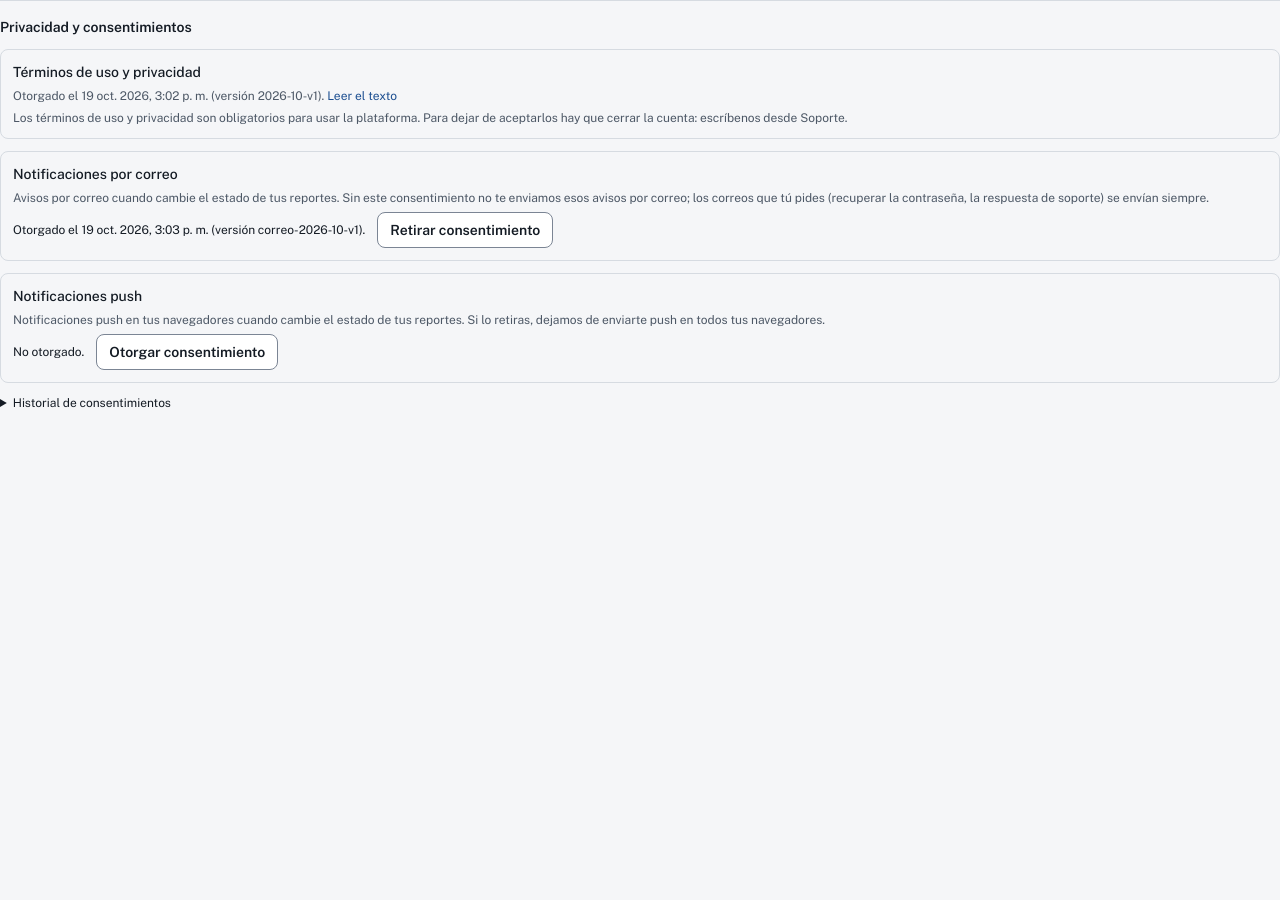
it: PrivacidadYConsentimientos (perfil) › «Leer el texto» abre los términos en un diálogo, sin otra pestaña
Click the link "Leer el texto".
click(362, 96)  # box [327,89,397,103]
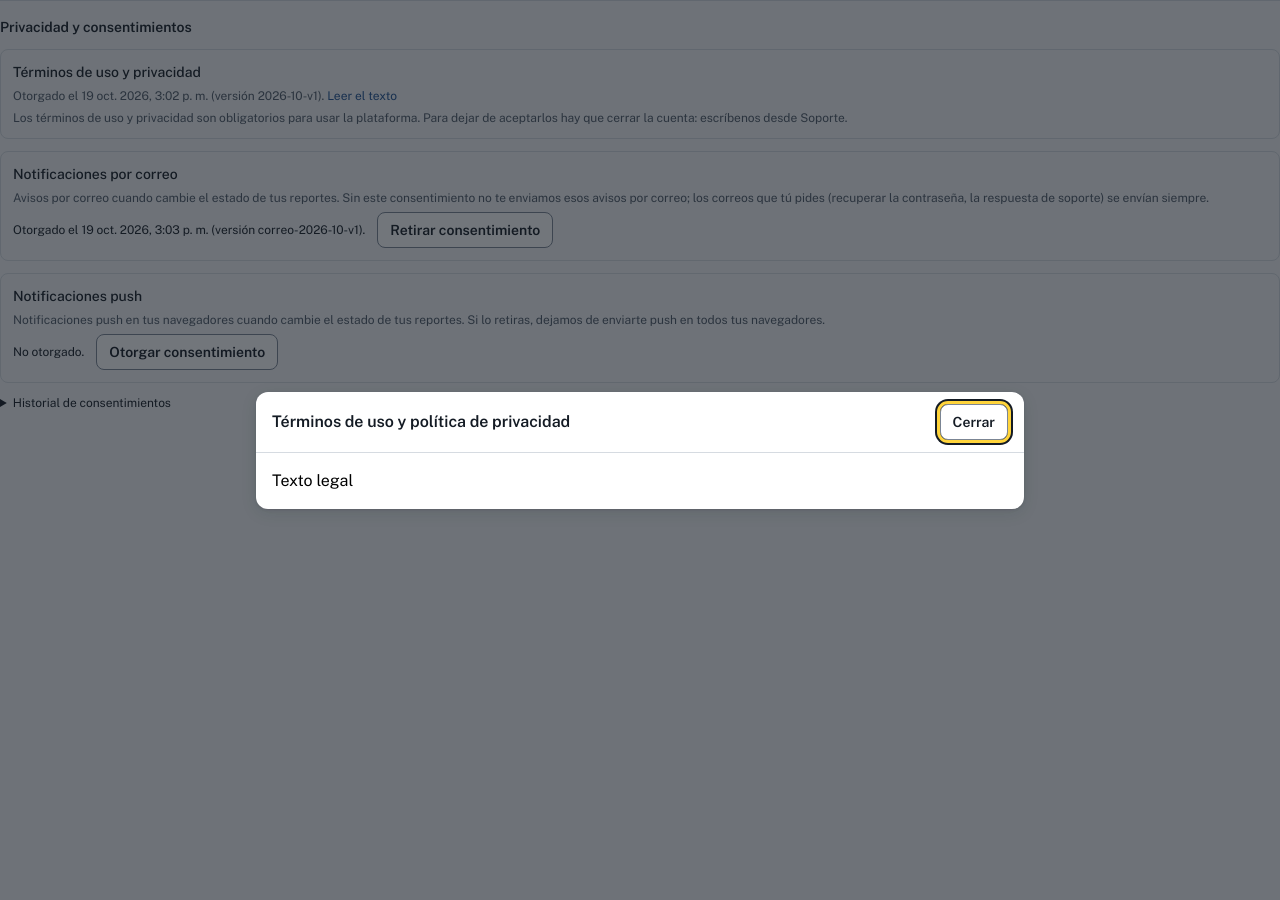
expect the text "Texto legal" is shown: met, box [272,470,353,490]
